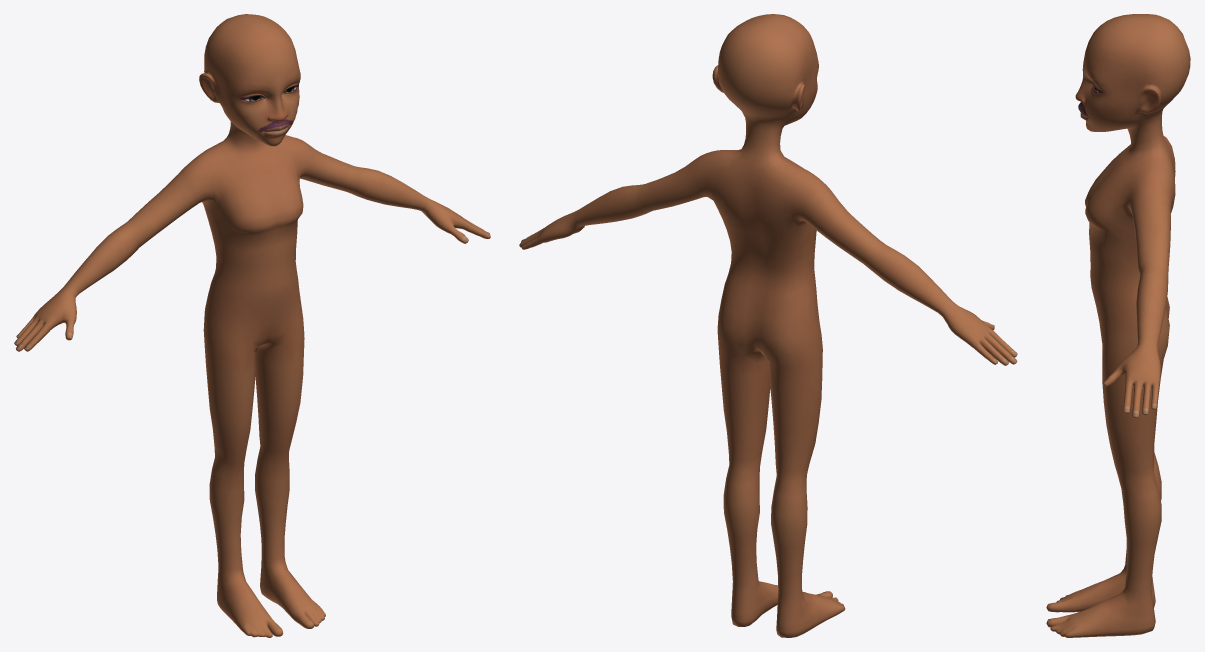
File: frame_0007.glb
3 renders of one model, left to right at view 1: azimuth 30°, elevation 25°; view 2: azimuth 150°, elevation 25°; view 3: azimuth 270°, elevation 25°, orthographic. The views are drawn at different scales.
Visible parts, largest first — view 1: frame_0007_head_geo; view 2: frame_0007_head_geo; view 3: frame_0007_head_geo.
Part boxes in pixels (bbox=[...]): frame_0007_head_geo: bbox=[14, 14, 490, 637]; frame_0007_head_geo: bbox=[519, 14, 1017, 637]; frame_0007_head_geo: bbox=[1046, 14, 1190, 637].
Bounding box in the file's own units: 1.28 × 1.5 × 0.3253.
Materials: 3 (3 with a texture image).
